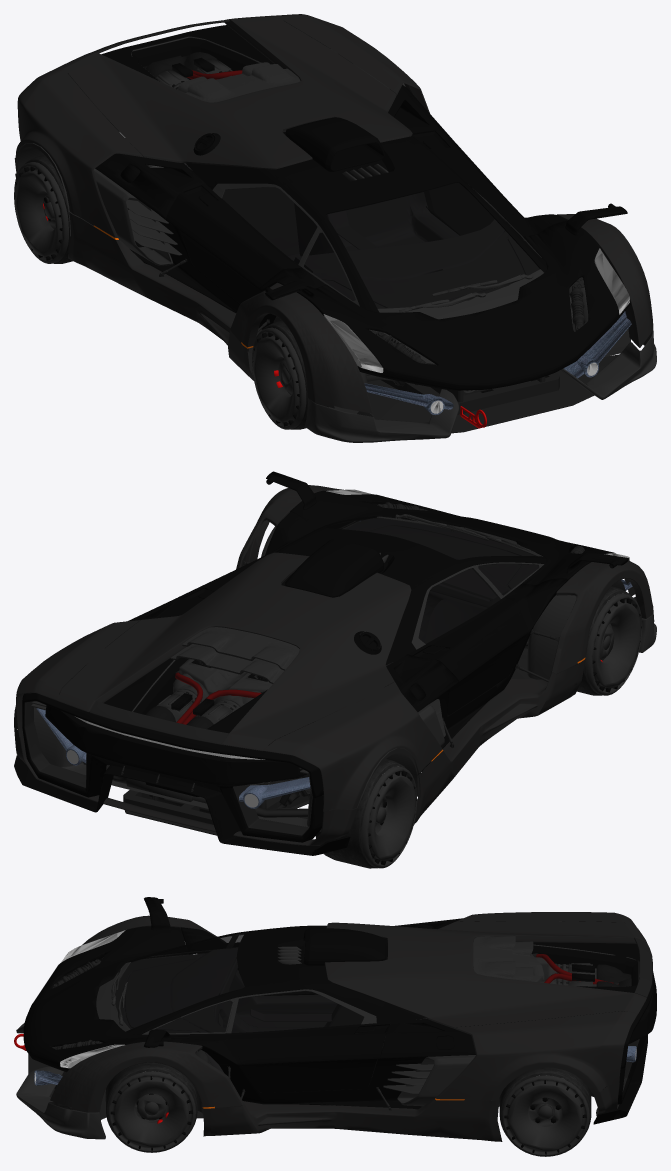
The model's file is supercar.glb.
3 views of the same model, one above another, from view 1: azimuth 30°, elevation 25°; view 2: azimuth 150°, elevation 25°; view 3: azimuth 270°, elevation 25° (orthographic). The views are drawn at different scales.
Parts seen in each view (by area): view 1: Body, Wheel_RR, Wheel_FR; view 2: Body, Wheel_RR, Wheel_FR; view 3: Body, Wheel_RL, Wheel_FL.
Part boxes in pixels (<box>): Body: <box>14,14,656,442</box>; Wheel_RR: <box>14,154,110,263</box>; Wheel_FR: <box>252,320,328,429</box>; Body: <box>14,471,656,855</box>; Wheel_RR: <box>315,759,417,868</box>; Wheel_FR: <box>575,586,642,695</box>; Body: <box>14,897,656,1141</box>; Wheel_RL: <box>499,1067,591,1156</box>; Wheel_FL: <box>105,1062,197,1152</box>.
Bounding box in the file's own units: 2.23 × 1.08 × 4.11.
Materials: 18 (3 with a texture image).
